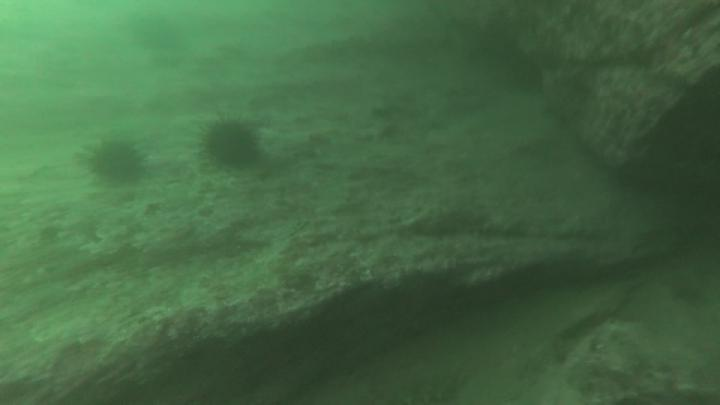echinus: (196, 112, 264, 173), (88, 135, 146, 187)
holothurian: (335, 359, 470, 405)
